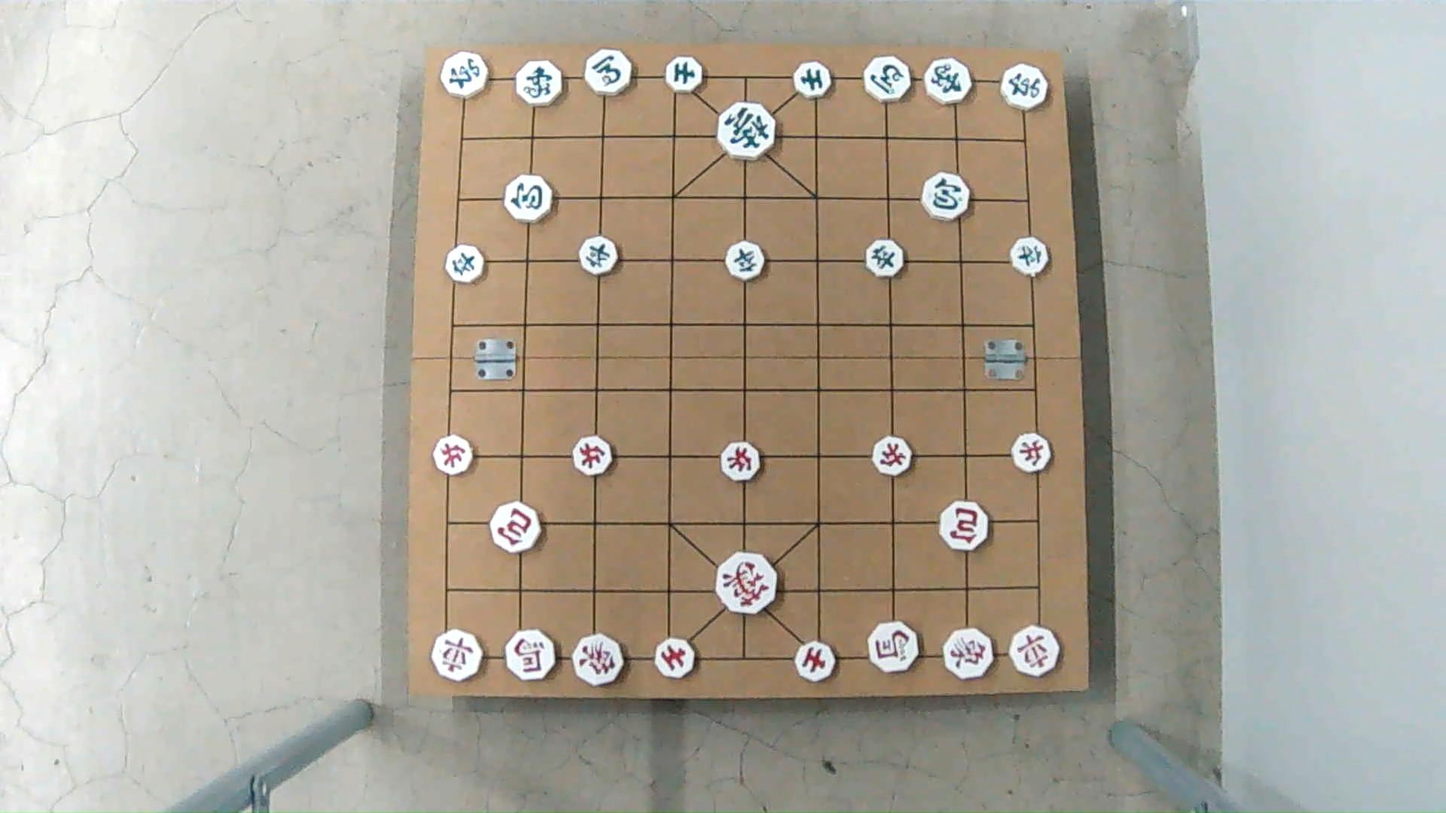cha_green: (999, 62, 1051, 109), (441, 56, 492, 99)
cha_red: (1010, 631, 1066, 678), (430, 634, 484, 682)
jol_green: (864, 239, 909, 276), (722, 244, 767, 279), (577, 238, 621, 273), (1010, 240, 1051, 276), (447, 248, 489, 282)
jol_red: (431, 435, 476, 474), (1011, 436, 1055, 472), (568, 437, 613, 472), (718, 444, 761, 480), (871, 439, 916, 473)
ma_green: (581, 50, 634, 93), (864, 59, 916, 102)
ma_red: (865, 626, 919, 674), (505, 634, 559, 681)
po_green: (501, 178, 554, 222), (919, 176, 972, 219)
po_red: (940, 505, 994, 551), (490, 507, 544, 553)
sa_green: (666, 59, 707, 93), (792, 65, 831, 99)
sa_red: (652, 638, 697, 679), (794, 641, 838, 679)
sang_green: (514, 62, 566, 105), (922, 62, 974, 105)
sang_red: (940, 626, 996, 678), (570, 636, 627, 684)
wang_green: (715, 102, 776, 154)
wang_red: (715, 556, 777, 614)
